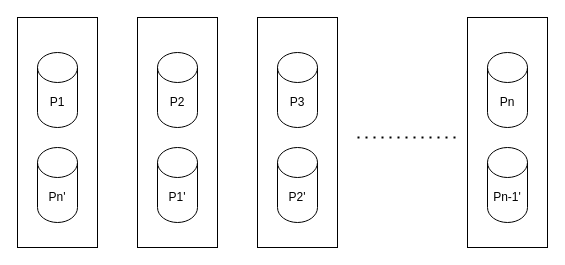
Image size: 565x265. Some labels were removed from this diagram. Each missing label, with the box of its shape:
db-0: (16, 16, 98, 248)
db-1: (136, 16, 218, 248)
db-2: (256, 16, 338, 248)
db-n: (466, 16, 548, 248)
